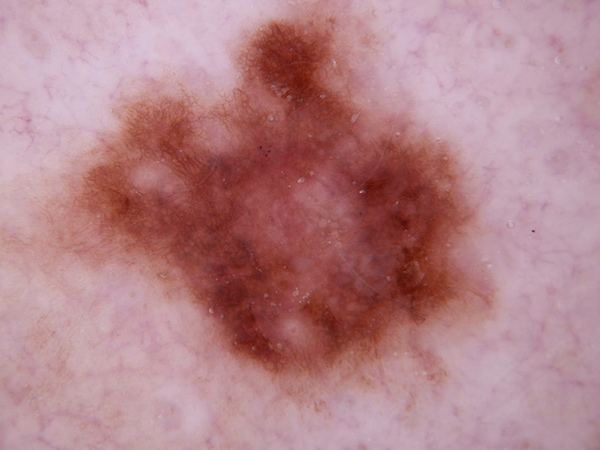Detected Lesion: (73, 19, 495, 387)
